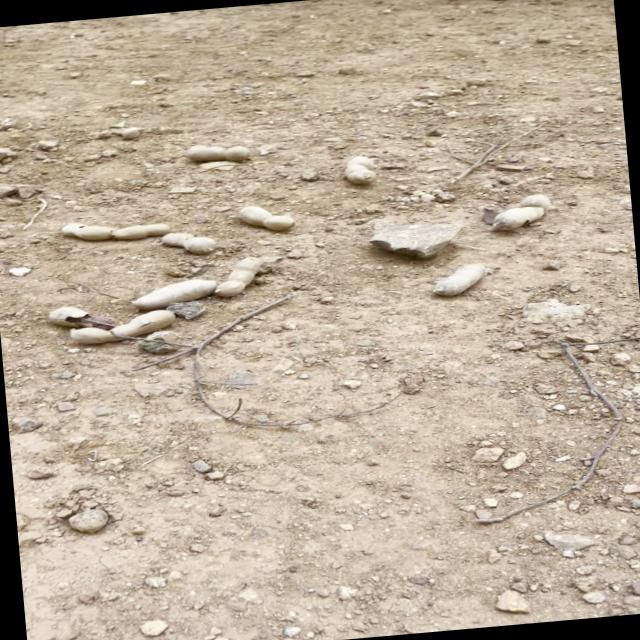tamarind: (48, 212, 166, 245), (78, 308, 174, 348), (139, 276, 214, 313), (494, 189, 544, 238), (436, 260, 489, 298), (182, 138, 252, 166), (238, 201, 302, 230), (165, 228, 228, 257), (218, 254, 259, 298), (338, 149, 379, 186)
